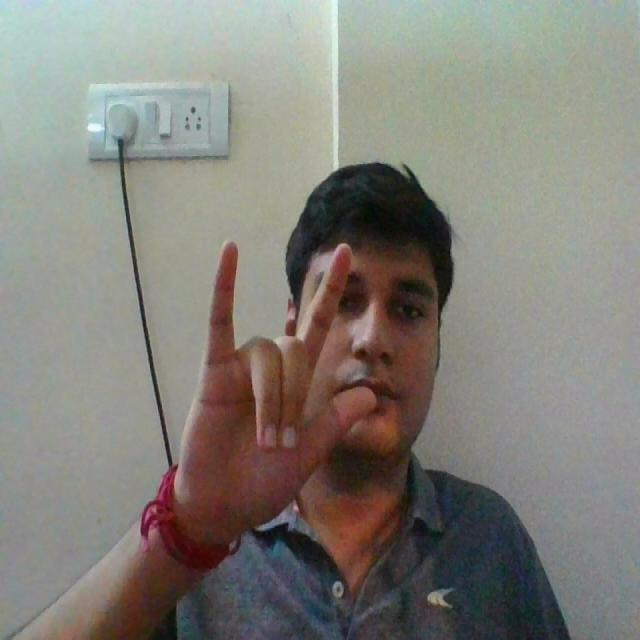I love you: (144, 156, 376, 573)
